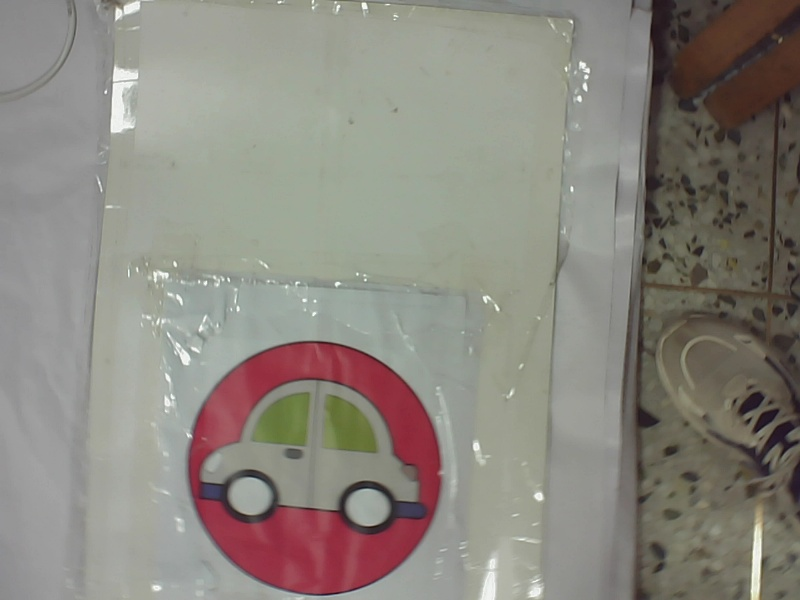areaC: (162, 336, 463, 595)
